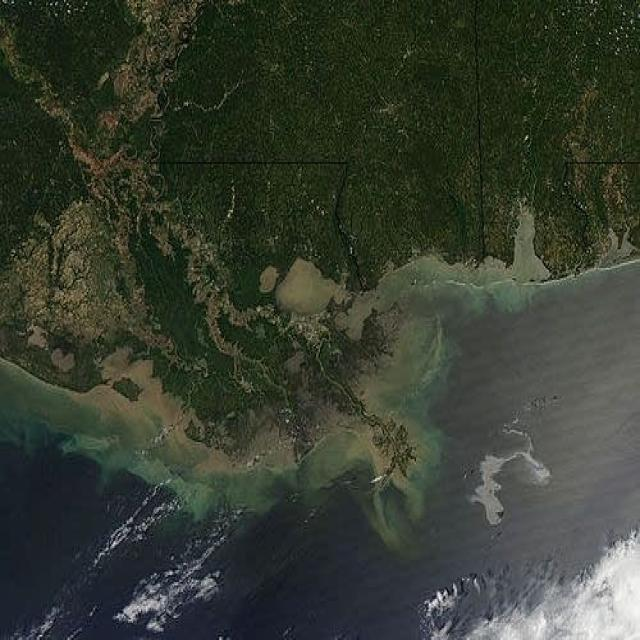oil spill: (470, 417, 551, 537)
